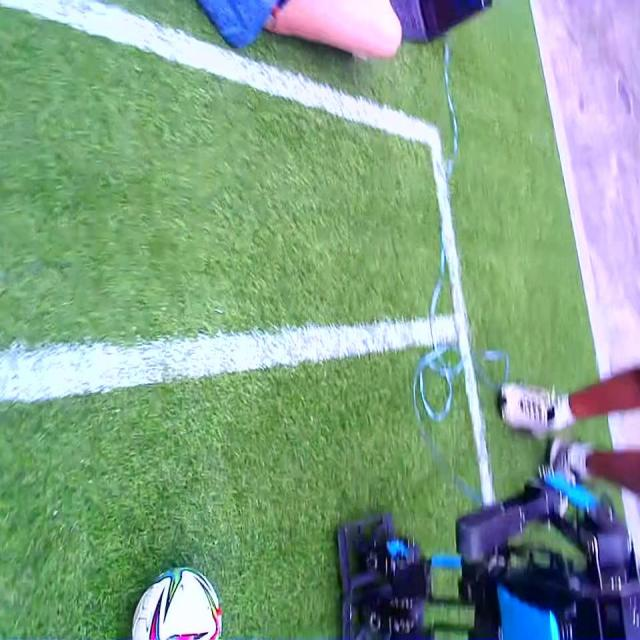ball: (134, 565, 225, 640)
